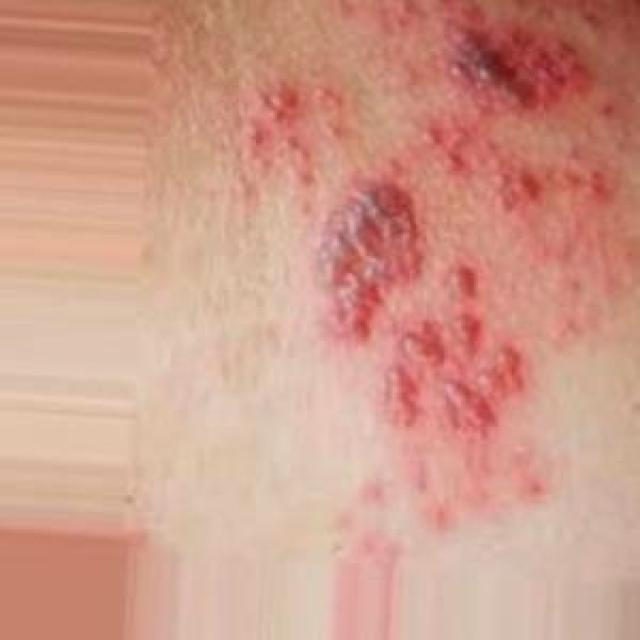Shingles: (236, 4, 599, 452)
